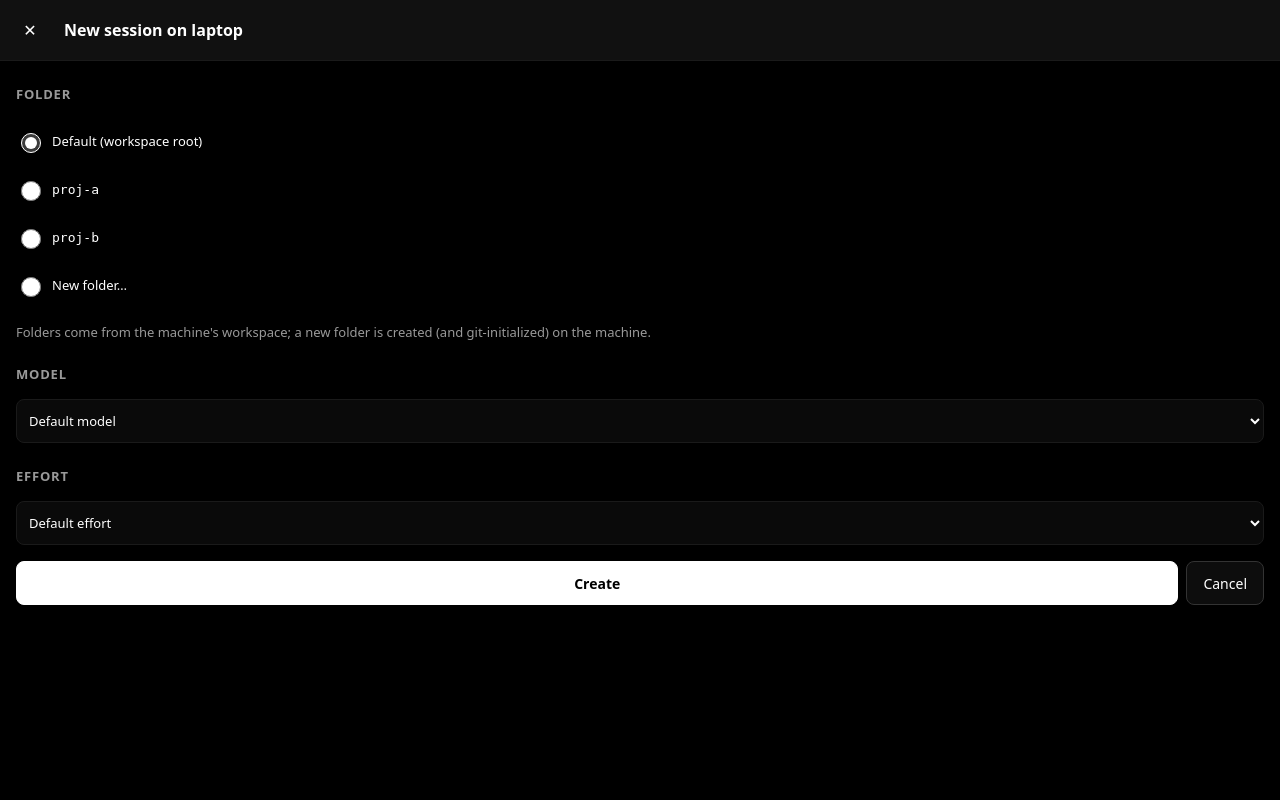
Test case: NewSessionModal (CDX-031) › failed publish surfaces an error and stays open
Click the button "Create". click: (597, 583)
box: [16, 561, 1178, 605]
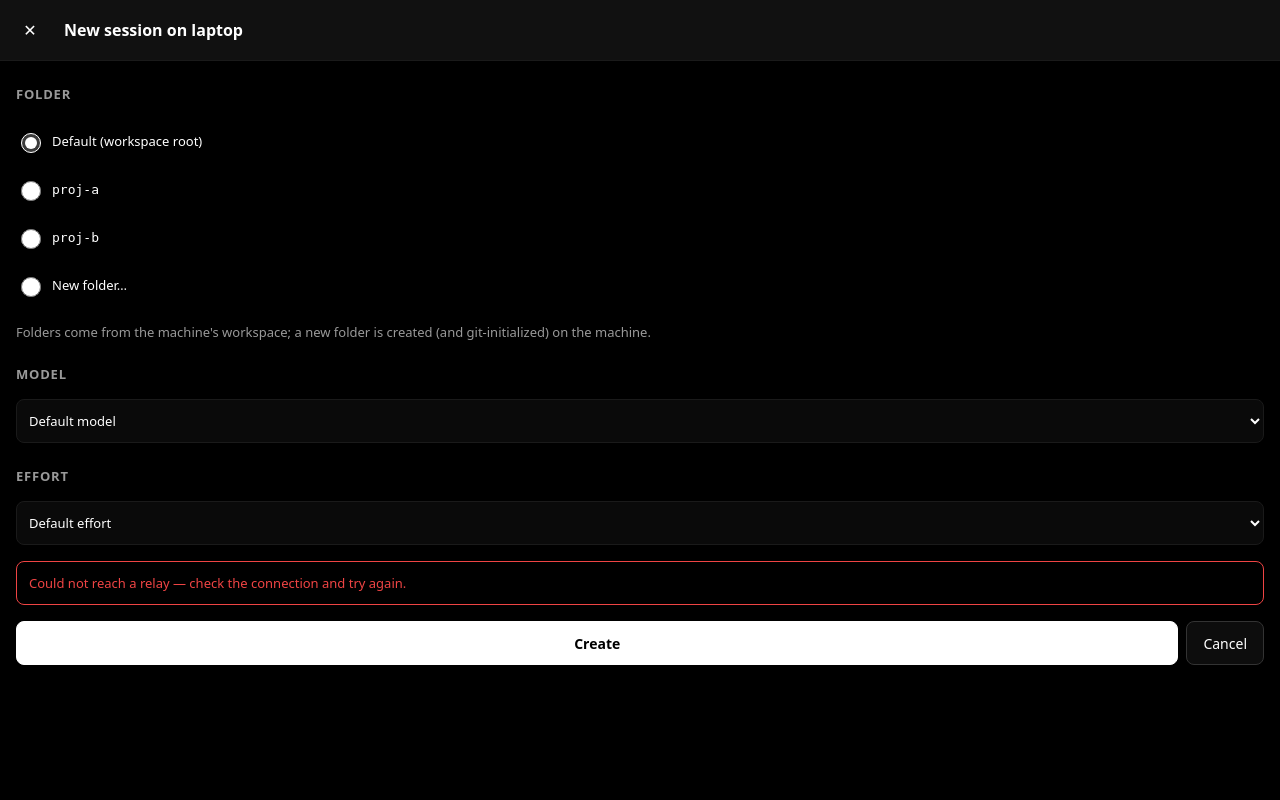
Check: the text "Could not reach a relay" is shown, box [29, 574, 406, 592]
